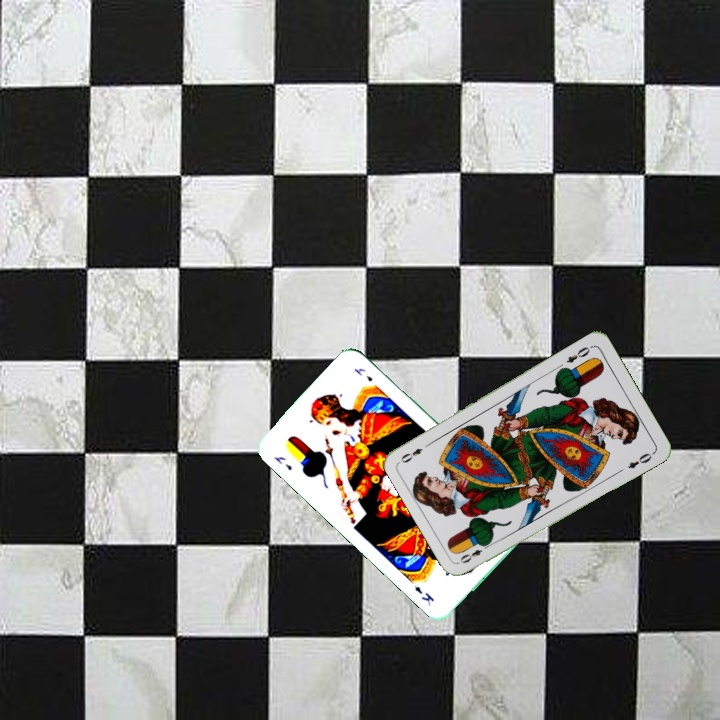EK: (269, 452, 295, 473)
EO: (456, 539, 493, 566), (562, 342, 595, 366)
